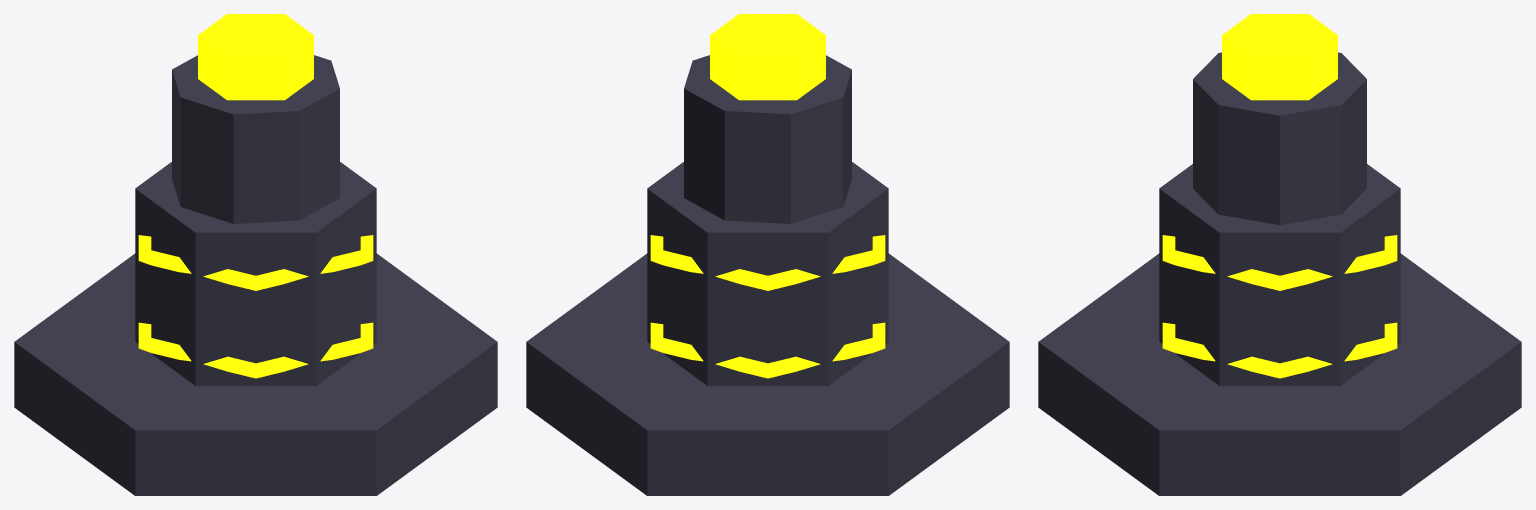
The model's file is tower_splash.glb.
3 views of the same model, side by side, from view 1: azimuth 30°, elevation 25°; view 2: azimuth 150°, elevation 25°; view 3: azimuth 270°, elevation 25° (orthographic).
Parts seen in each view (by area): view 1: tower_splash; view 2: tower_splash; view 3: tower_splash.
Boxes of the visible parts, x1=… form: tower_splash: x1=14, y1=14, x2=497, y2=495; tower_splash: x1=526, y1=14, x2=1009, y2=495; tower_splash: x1=1038, y1=14, x2=1521, y2=495.
Size of the model in its own units: 0.866 by 0.85 by 1.
